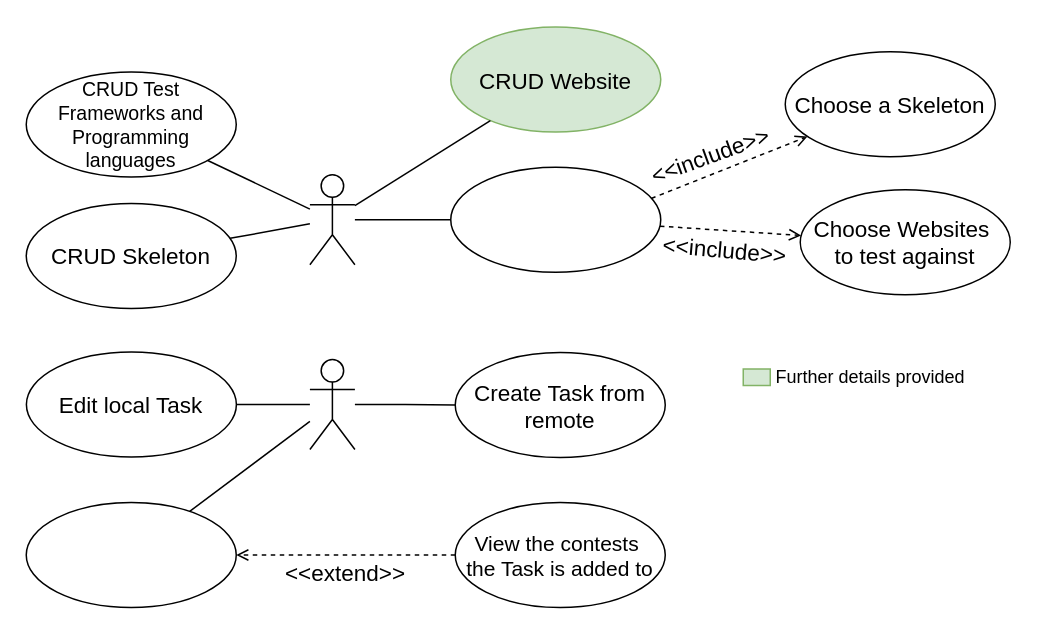
Image size: 1037x633. Some labels were removed from this diagram. Here are the shapes that lost their labels. From the top down, the centre of each, then its label:
At (331,219): "Maintainer".
At (555,219): "Create Task for TaskBank".
At (331,404): "Teacher".
At (130,554): "Delete Task".
